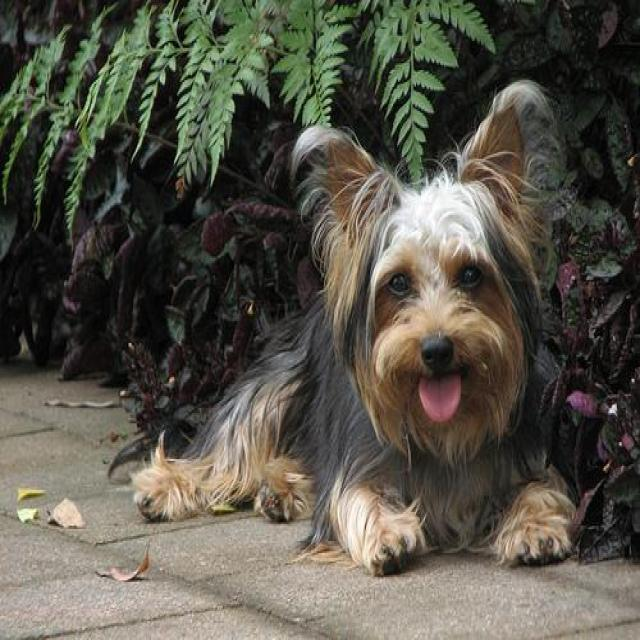adult_dog: (131, 80, 584, 576)
